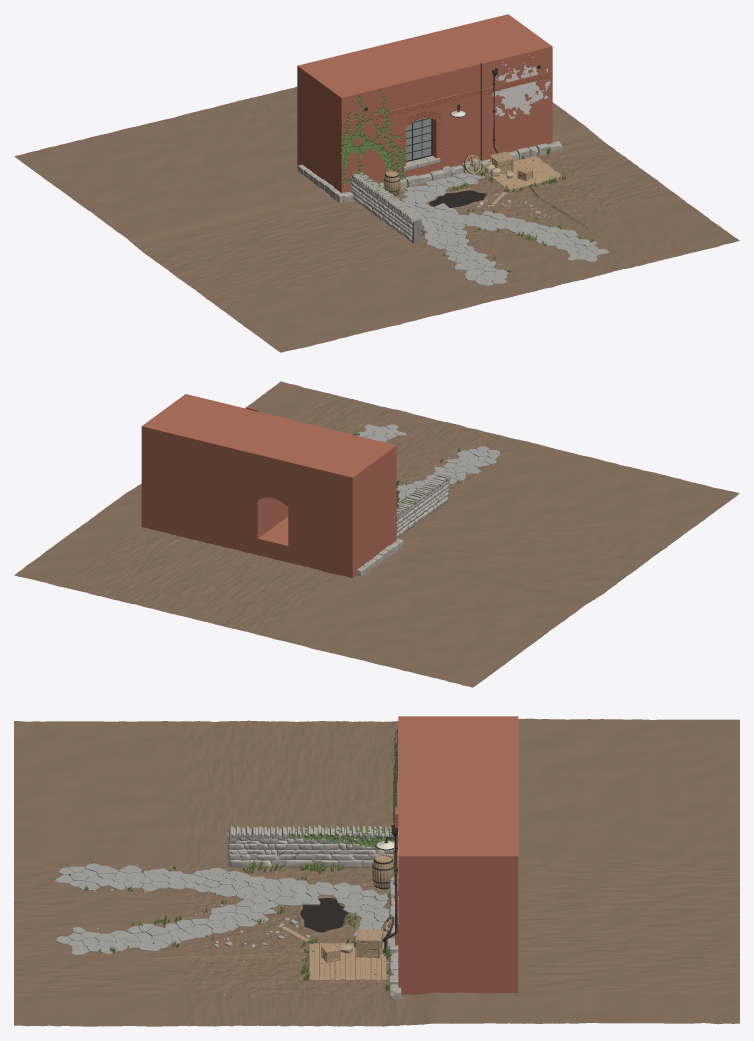
File: courtyard.glb
3 views of the same model, one above another, from view 1: azimuth 30°, elevation 25°; view 2: azimuth 150°, elevation 25°; view 3: azimuth 270°, elevation 25° (orthographic). The views are drawn at different scales.
Visible parts, largest first — view 1: cy_ground, cy_wall, cy_flagstones, cy_dry_wall, cy_ivy_leaves, cy_plinth, cy_brick_details, cy_plaster, cy_pier, cy_deck, cy_glass, cy_grass (+1 smaller); view 2: cy_ground, cy_wall, cy_flagstones, cy_dry_wall, cy_plinth; view 3: cy_ground, cy_wall, cy_flagstones, cy_dry_wall, cy_deck, cy_grass, cy_ivy_leaves, cy_puddle, cy_plinth, cy_crate, cy_barrel.
Boxes of the visible parts, bbox=[...] form: cy_ground: bbox=[14, 86, 739, 352]; cy_wall: bbox=[297, 14, 552, 192]; cy_flagstones: bbox=[401, 171, 608, 285]; cy_dry_wall: bbox=[350, 172, 421, 243]; cy_ivy_leaves: bbox=[340, 90, 405, 200]; cy_plinth: bbox=[297, 141, 562, 202]; cy_brick_details: bbox=[341, 64, 552, 167]; cy_plaster: bbox=[492, 55, 550, 118]; cy_pier: bbox=[480, 60, 492, 160]; cy_deck: bbox=[481, 156, 561, 190]; cy_glass: bbox=[405, 118, 431, 160]; cy_grass: bbox=[406, 146, 595, 285]; cy_ground: bbox=[14, 381, 739, 687]; cy_wall: bbox=[141, 394, 396, 578]; cy_flagstones: bbox=[355, 424, 500, 503]; cy_dry_wall: bbox=[396, 473, 450, 537]; cy_plinth: bbox=[357, 538, 403, 576]; cy_ground: bbox=[14, 718, 739, 1026]; cy_wall: bbox=[398, 716, 518, 994]; cy_flagstones: bbox=[54, 863, 389, 954]; cy_dry_wall: bbox=[227, 825, 393, 867]; cy_deck: bbox=[309, 942, 388, 980]; cy_grass: bbox=[53, 857, 393, 990]; cy_ivy_leaves: bbox=[289, 729, 397, 884]; cy_puddle: bbox=[299, 898, 347, 932]; cy_plinth: bbox=[386, 857, 401, 999]; cy_crate: bbox=[355, 929, 382, 958]; cy_barrel: bbox=[372, 854, 394, 889].
Size of the model in its own units: 30.02 by 6.62 by 30.23.
